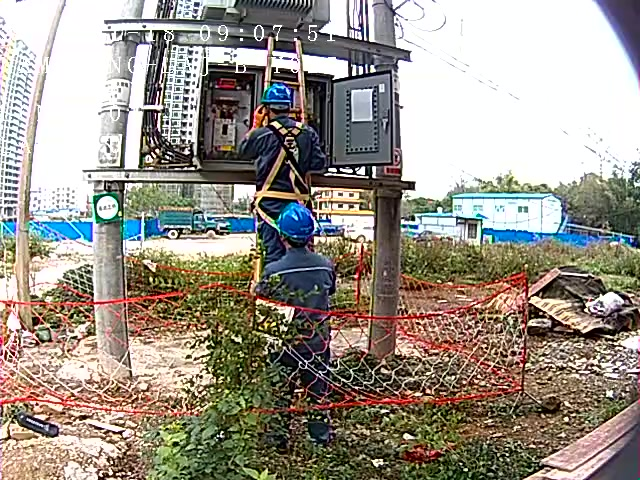halt: (280, 205, 318, 249), (264, 85, 299, 124)
